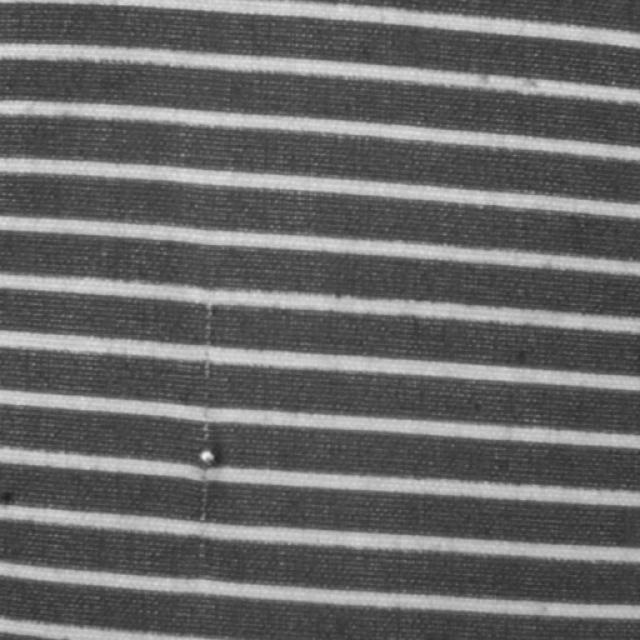Hole-Defect: (195, 415, 216, 522), (204, 304, 212, 345), (202, 352, 210, 379), (198, 541, 206, 559)
